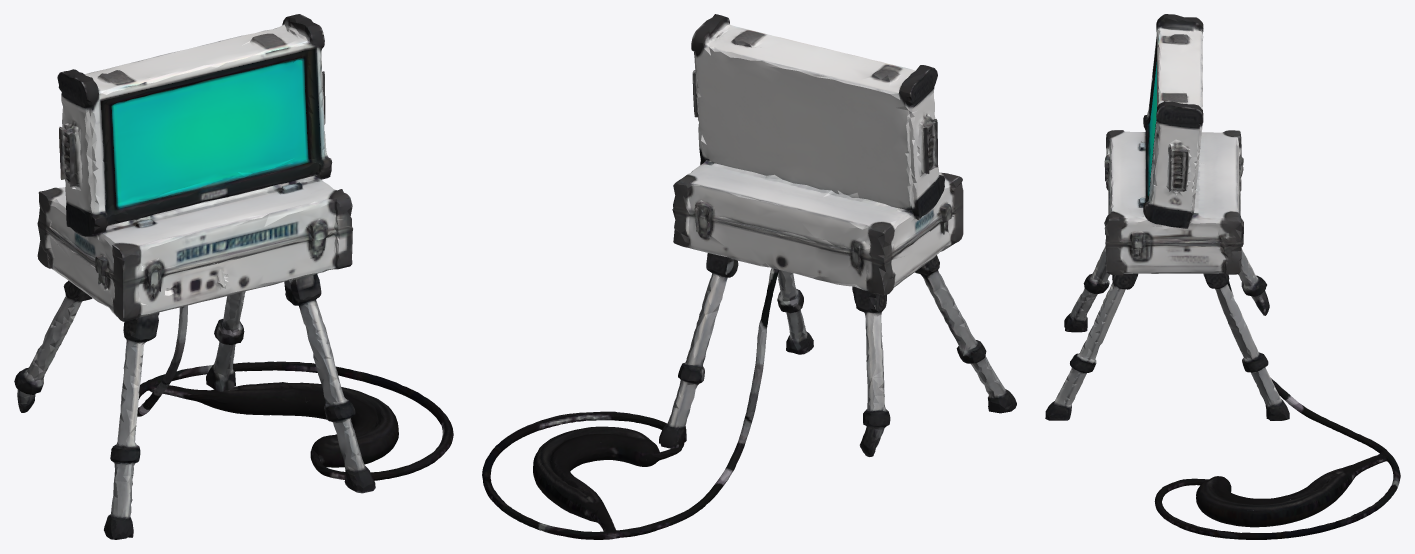
The model's file is CK1_FieldTerminal.glb.
3 views of the same model, side by side, from view 1: azimuth 30°, elevation 25°; view 2: azimuth 150°, elevation 25°; view 3: azimuth 270°, elevation 25° (orthographic). The views are drawn at different scales.
Parts seen in each view (by area): view 1: CK1_FieldTerminal; view 2: CK1_FieldTerminal; view 3: CK1_FieldTerminal.
Part boxes in pixels (x1=…): CK1_FieldTerminal: x1=14, y1=14, x2=453, y2=539; CK1_FieldTerminal: x1=482, y1=14, x2=1016, y2=539; CK1_FieldTerminal: x1=1045, y1=14, x2=1400, y2=539.
Size of the model in its own units: 1.06 by 1.1 by 0.9408.
Materials: 1 (1 with a texture image).
